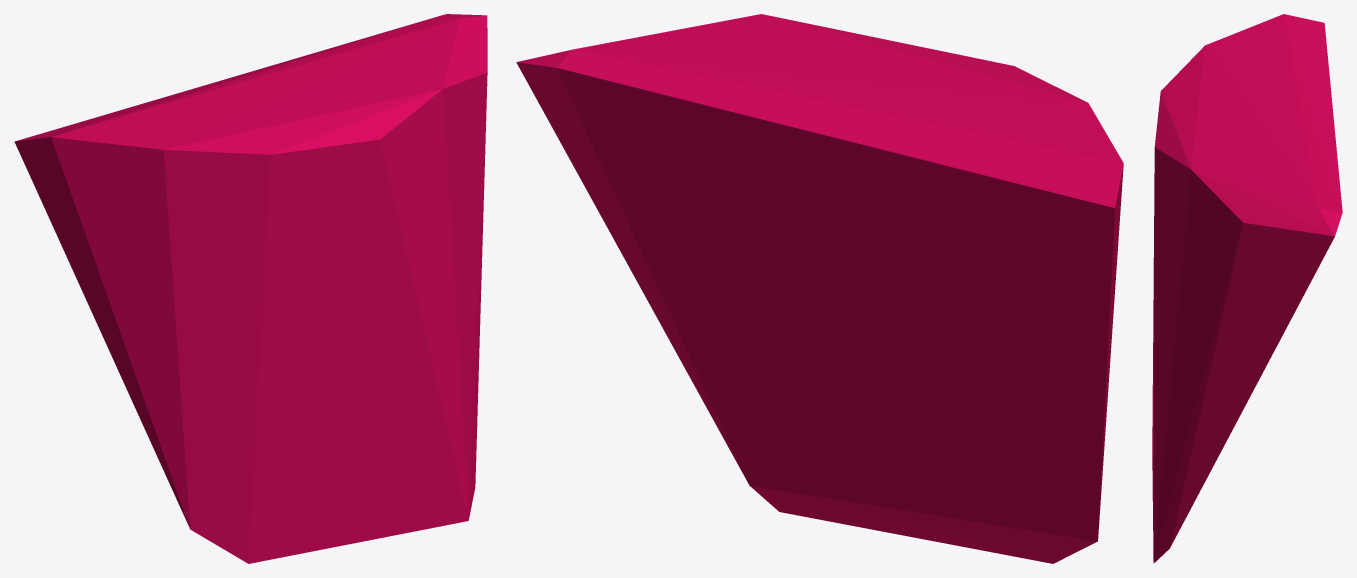
The model's file is arm-L2-mirror_convex_piece_000.obj.
3 renders of one model, left to right at view 1: azimuth 30°, elevation 25°; view 2: azimuth 150°, elevation 25°; view 3: azimuth 270°, elevation 25°, orthographic. The views are drawn at different scales.
Size of the model in its own units: 0.0692 by 0.0578 by 0.0255.
